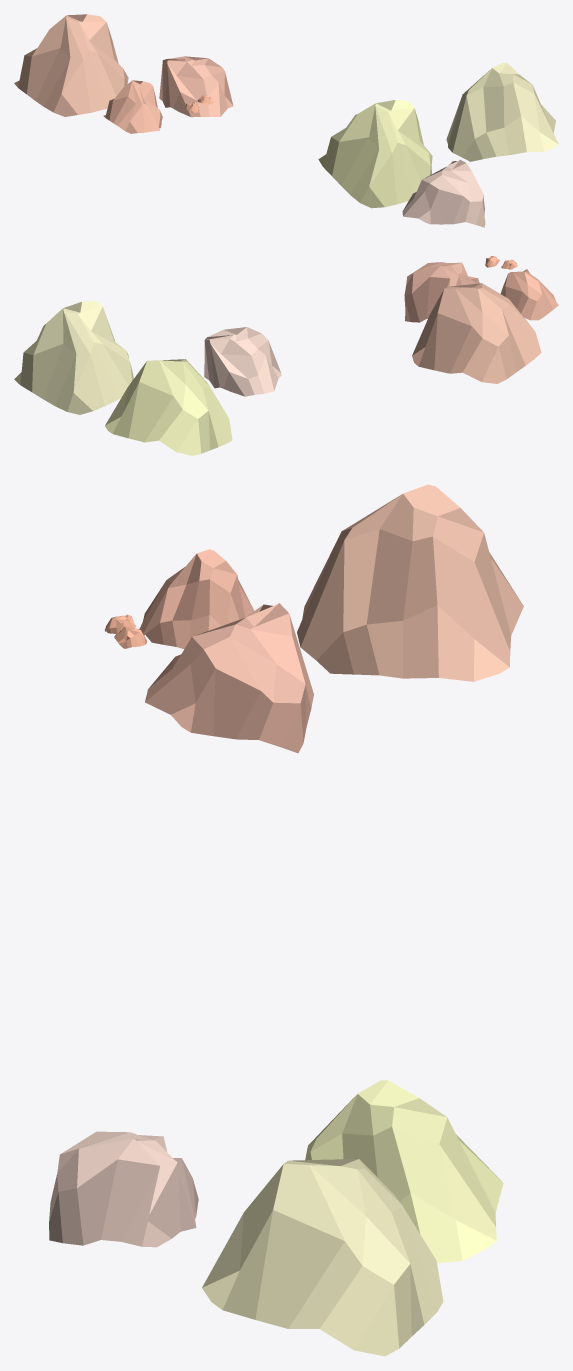
Rendered from rocksOnMiddleRock.gltf.
The picture shows the model from 3 angles, top to bottom: view 1: azimuth 30°, elevation 25°; view 2: azimuth 150°, elevation 25°; view 3: azimuth 270°, elevation 25°; orthographic projection. The views are drawn at different scales.
Visible parts, largest first — view 1: Plane.011, Plane, Plane.010, Plane.009, Plane.005, Plane.004; view 2: Plane, Plane.010, Plane.011, Plane.009, Plane.005, Plane.004; view 3: Plane.010, Plane, Plane.011, Plane.005, Plane.009, Plane.004.
Part boxes in pixels (x1=…): Plane.011: x1=318, y1=100, x2=432, y2=208; Plane: x1=14, y1=14, x2=128, y2=116; Plane.010: x1=446, y1=62, x2=558, y2=161; Plane.009: x1=402, y1=159, x2=485, y2=227; Plane.005: x1=159, y1=56, x2=233, y2=117; Plane.004: x1=103, y1=80, x2=162, y2=133; Plane: x1=412, y1=283, x2=541, y2=383; Plane.010: x1=14, y1=300, x2=133, y2=414; Plane.011: x1=105, y1=359, x2=232, y2=455; Plane.009: x1=204, y1=327, x2=281, y2=396; Plane.005: x1=404, y1=262, x2=479, y2=322; Plane.004: x1=500, y1=269, x2=558, y2=320; Plane.010: x1=202, y1=1159, x2=443, y2=1356; Plane: x1=297, y1=484, x2=523, y2=681; Plane.011: x1=305, y1=1080, x2=503, y2=1263; Plane.005: x1=145, y1=603, x2=313, y2=753; Plane.009: x1=49, y1=1131, x2=198, y2=1247; Plane.004: x1=139, y1=549, x2=254, y2=648.
Bounding box in the file's own units: 0.4326 × 0.195 × 0.1776.
